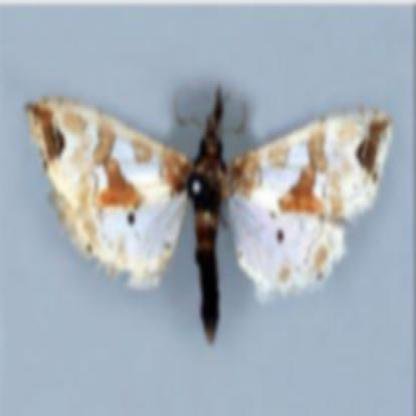leucinodes: (24, 86, 392, 343)
